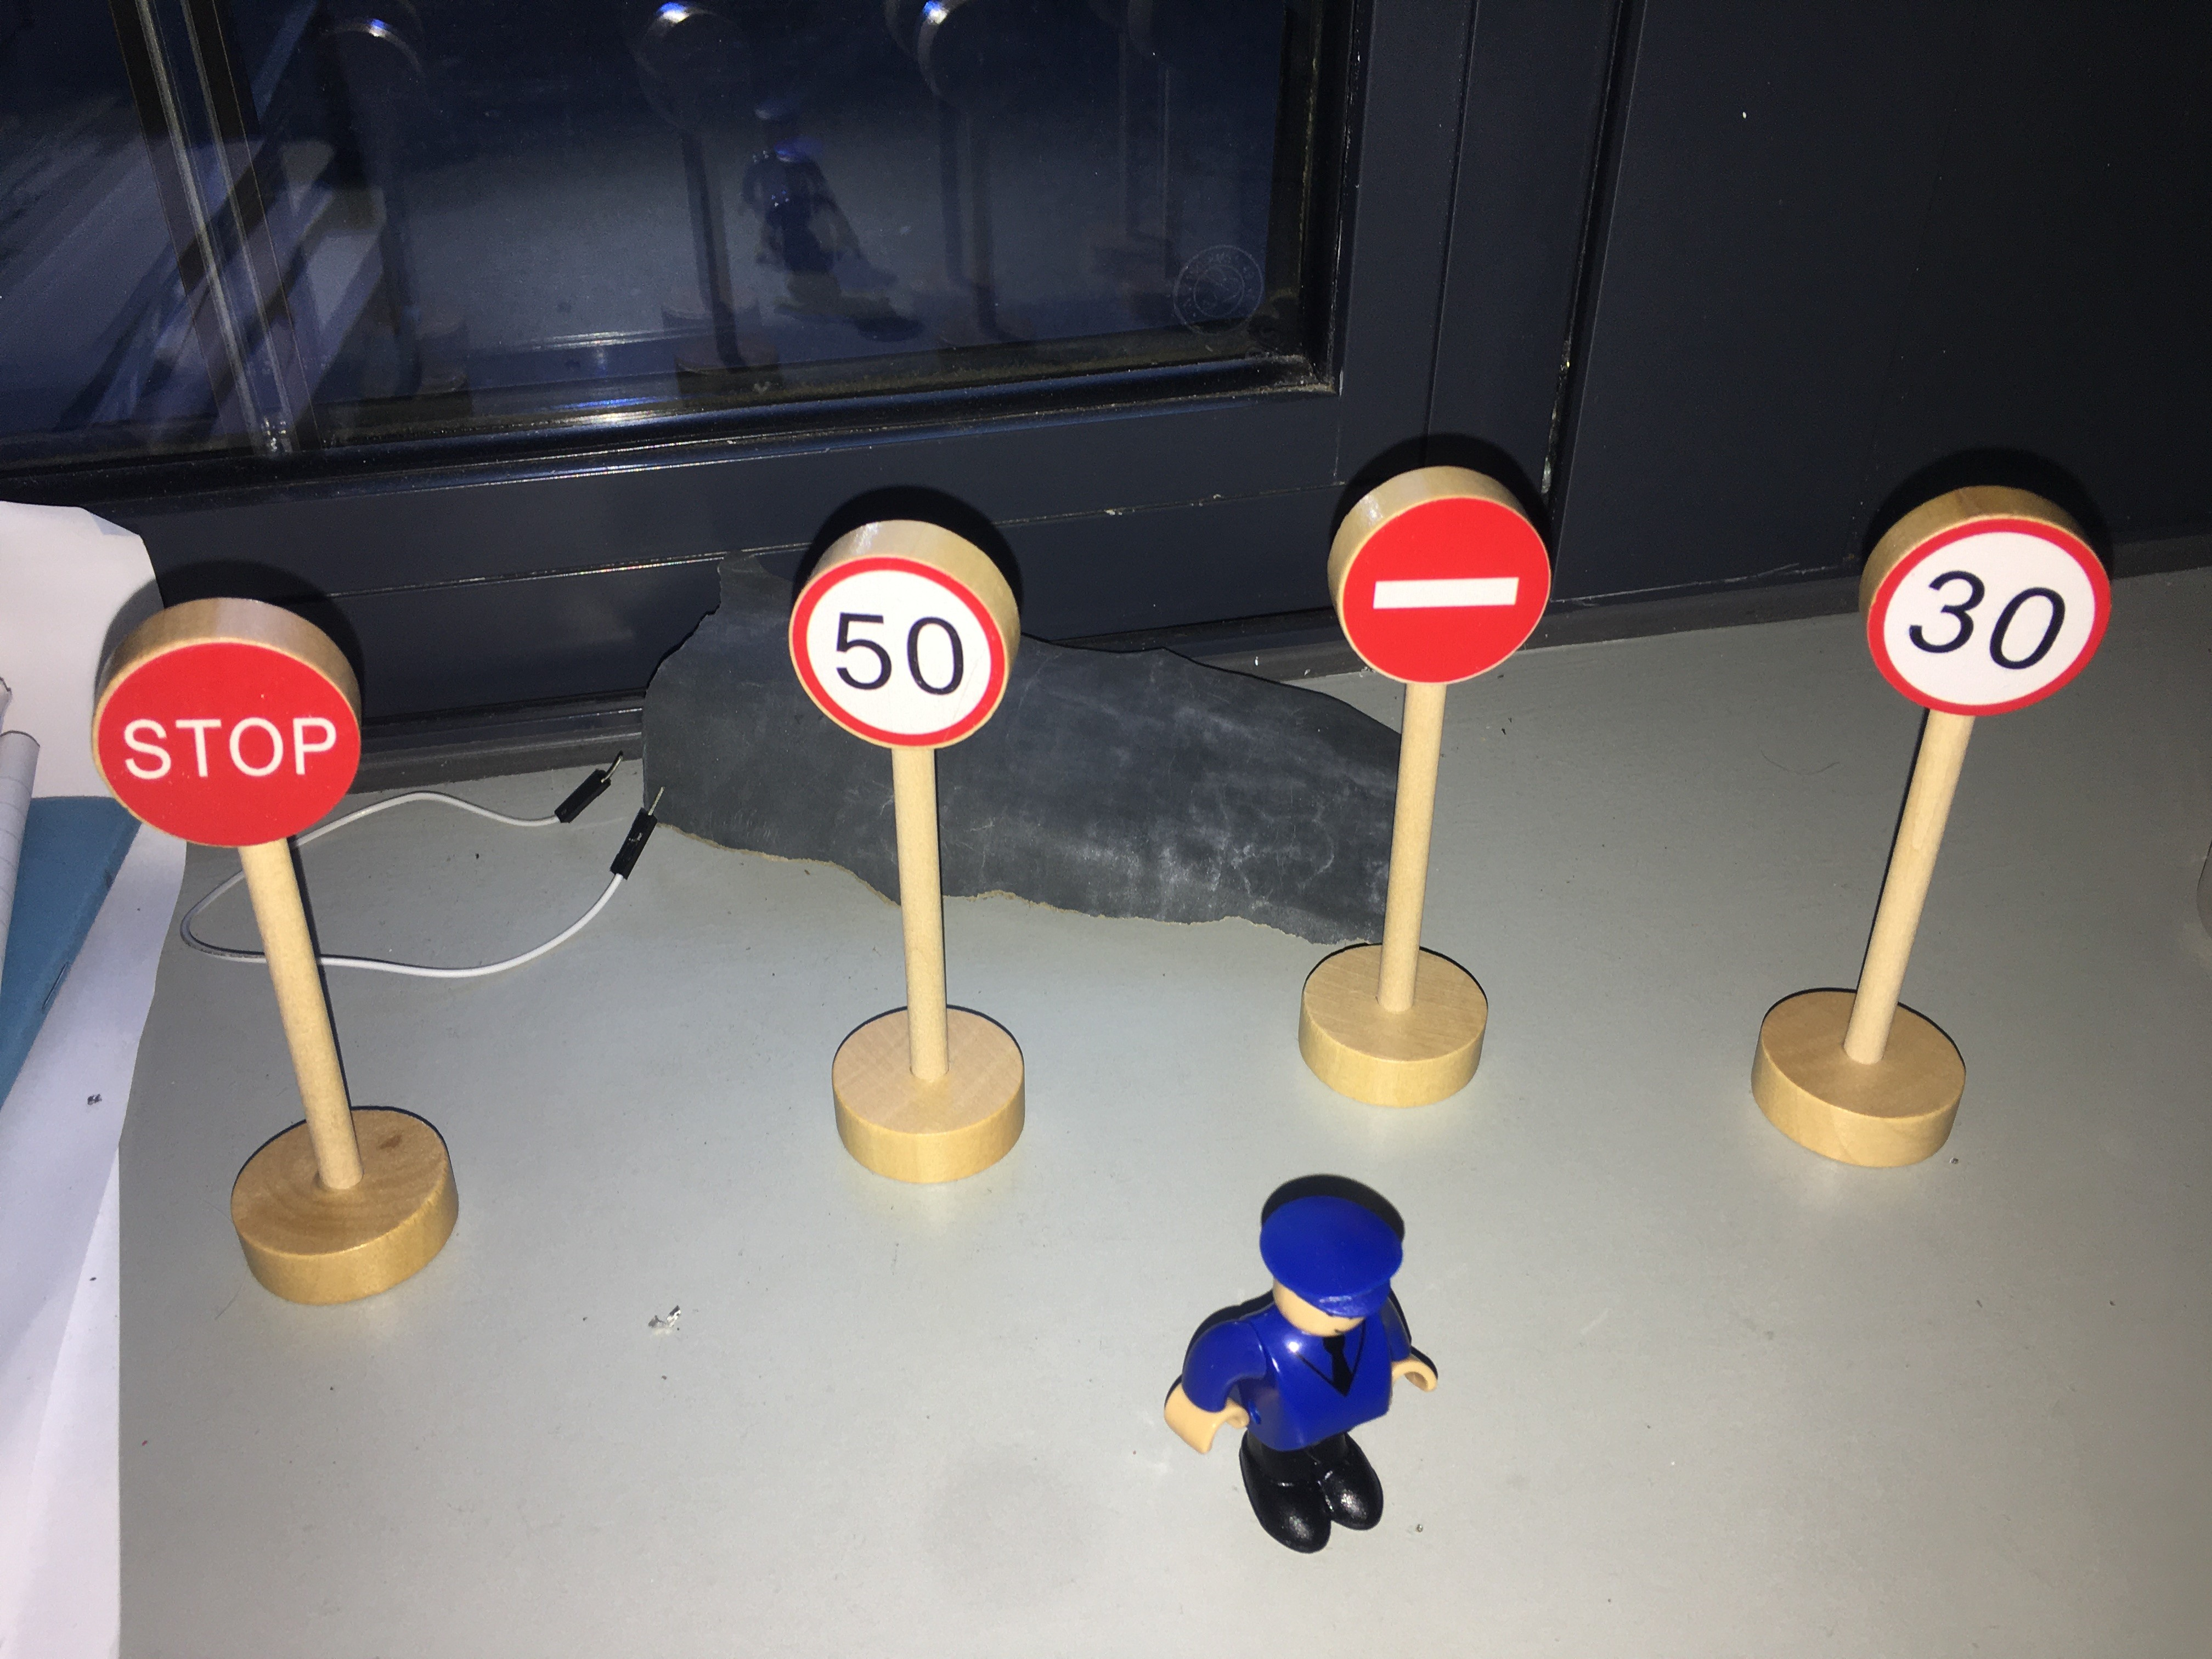Traffic_Sign_30: (1867, 517, 2113, 716)
Traffic_Sign_50: (789, 561, 1007, 748)
Traffic_Sign_No_Entry: (1341, 497, 1554, 692)
Traffic_Sign_Stop: (92, 642, 364, 842)
person: (1157, 1197, 1447, 1559)
